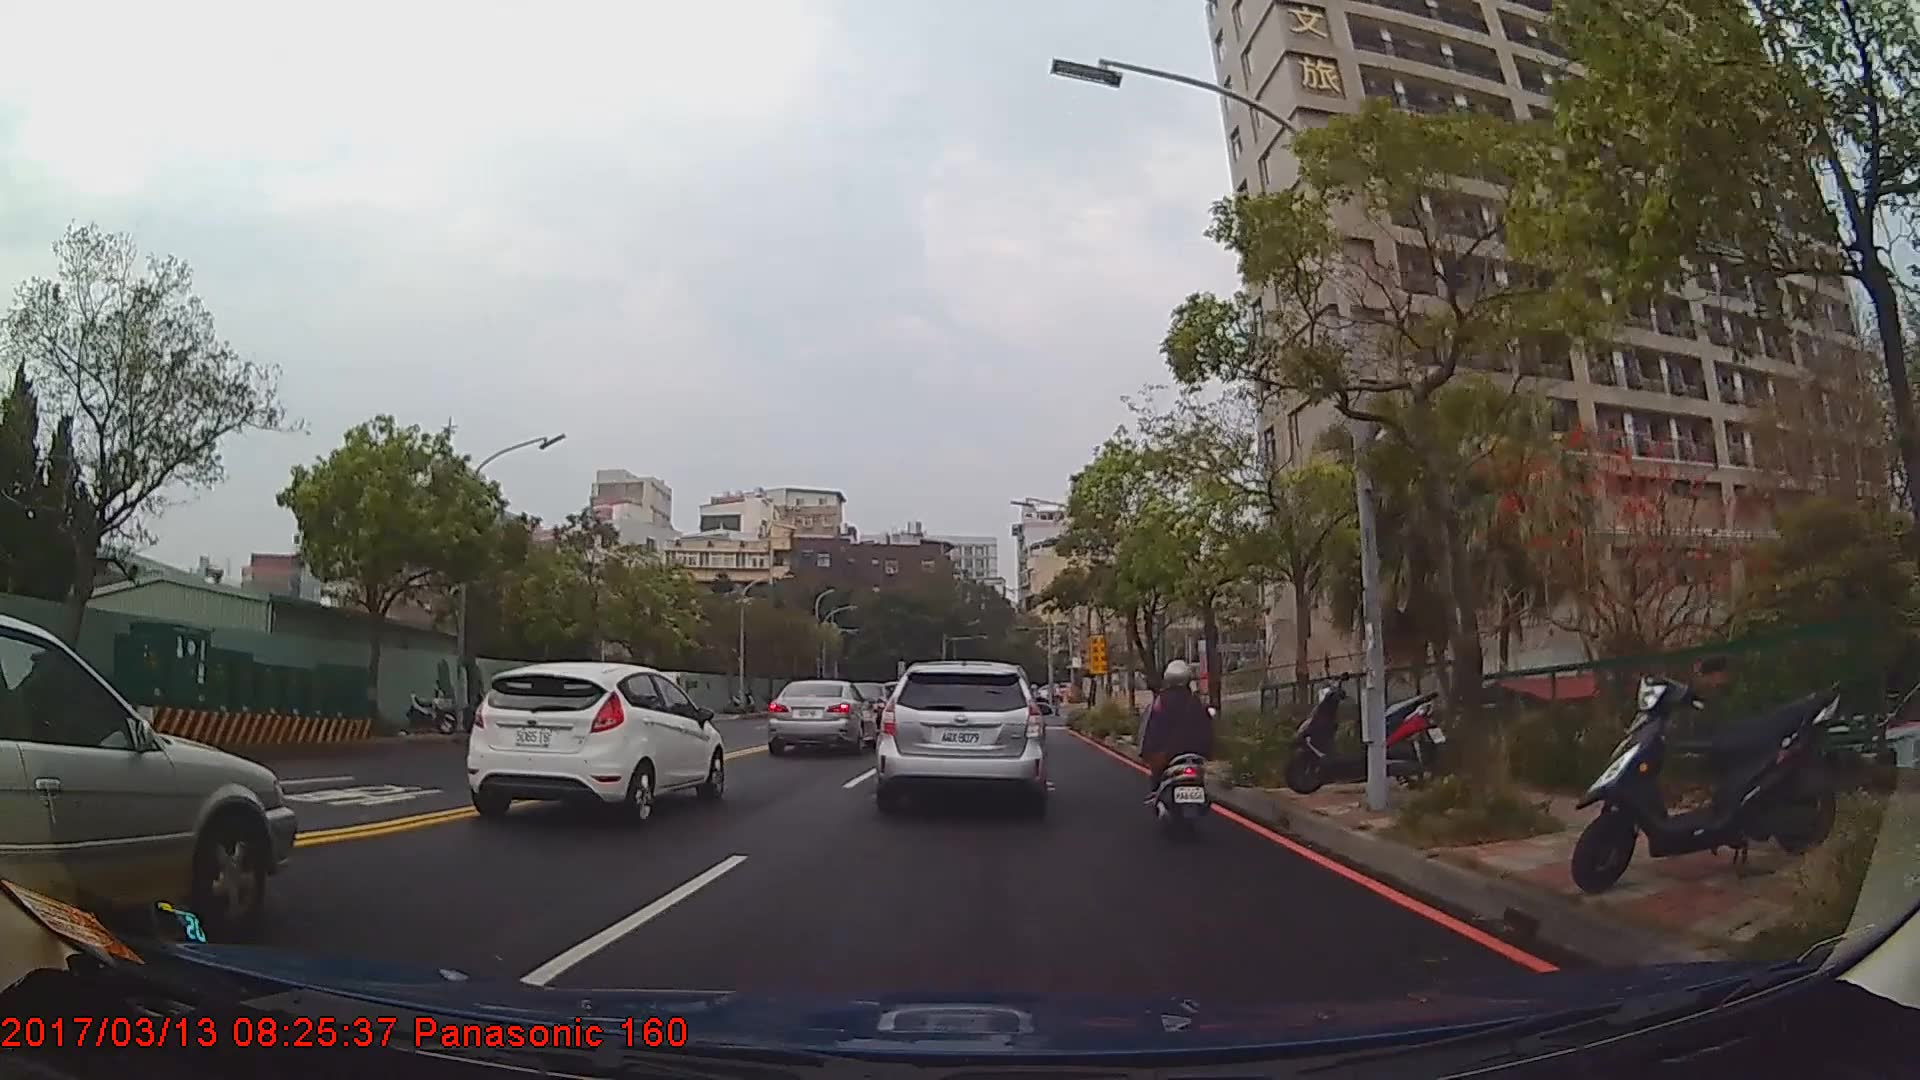rider: (1142, 661, 1214, 841)
vehicle: (0, 613, 294, 938), (465, 659, 724, 828), (876, 659, 1045, 817), (766, 678, 880, 754)
